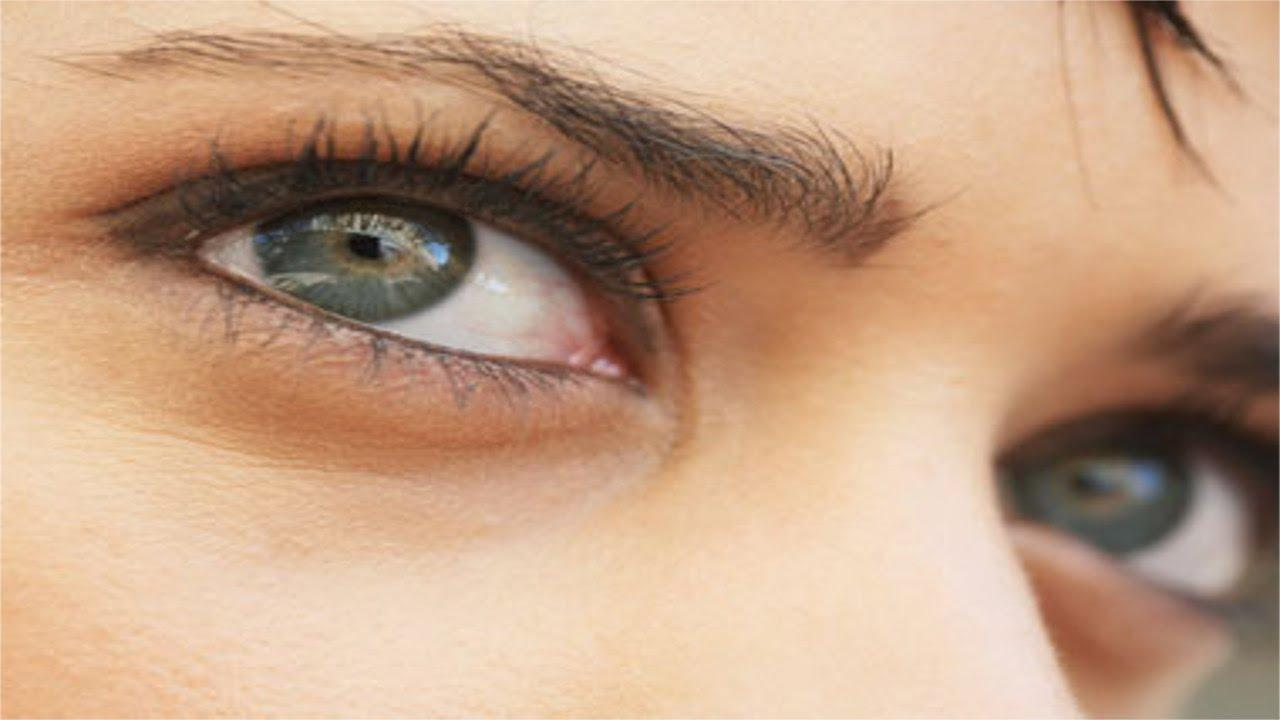Eyebags: (17, 129, 709, 524)
